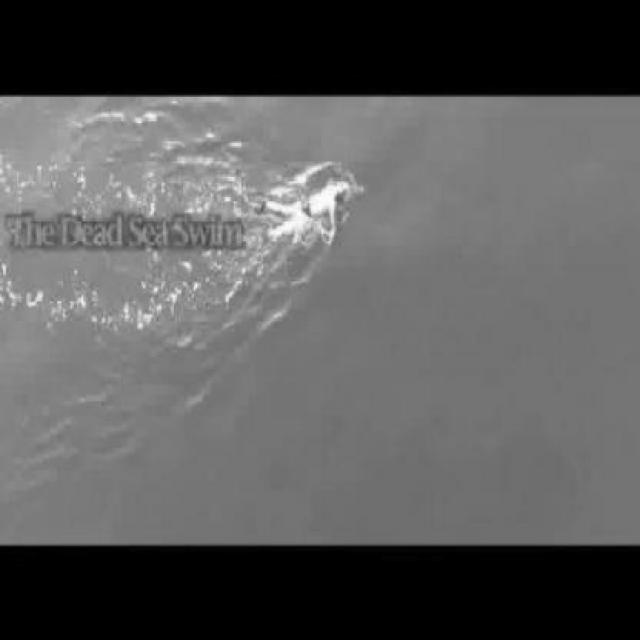drowning: (249, 155, 394, 260)
